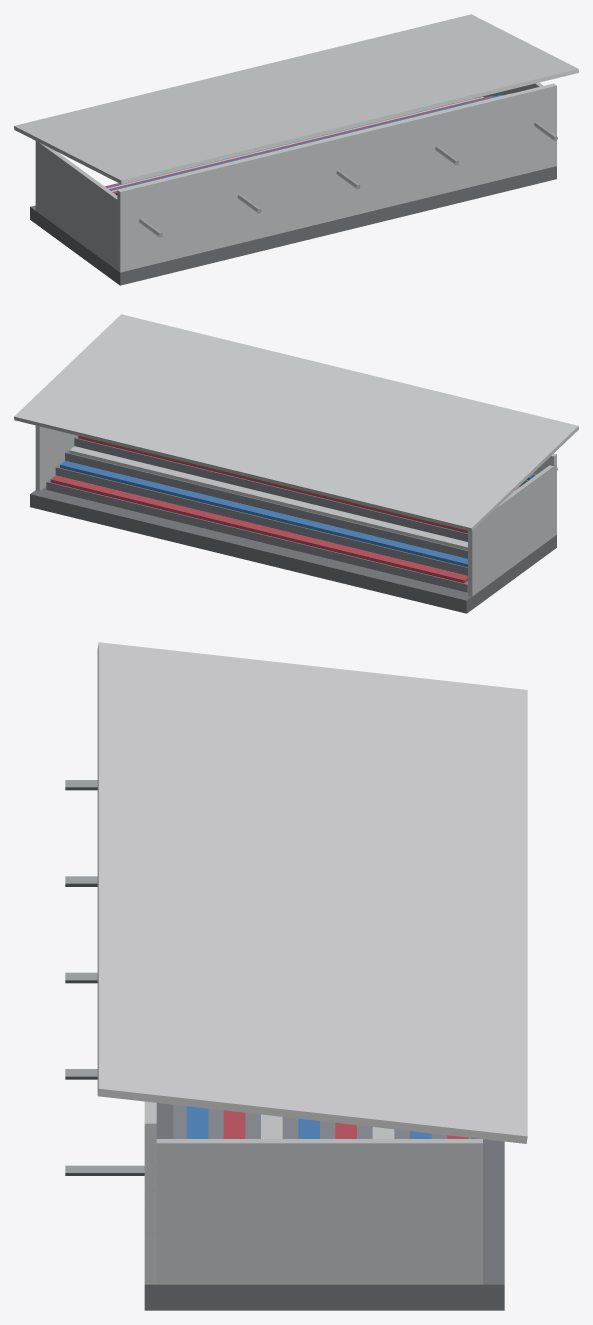
File: grandstand.glb
3 renders of one model, top to bottom at view 1: azimuth 30°, elevation 25°; view 2: azimuth 150°, elevation 25°; view 3: azimuth 270°, elevation 25°, orthographic. The views are drawn at different scales.
Visible parts, largest first — view 1: grandstand; view 2: grandstand; view 3: grandstand.
Part boxes in pixels (x1,y1,x2,y2): grandstand: (14, 14, 578, 285); grandstand: (14, 314, 578, 613); grandstand: (65, 642, 527, 1310).
Bounding box in the file's own units: 44 × 10.67 × 19.25.
